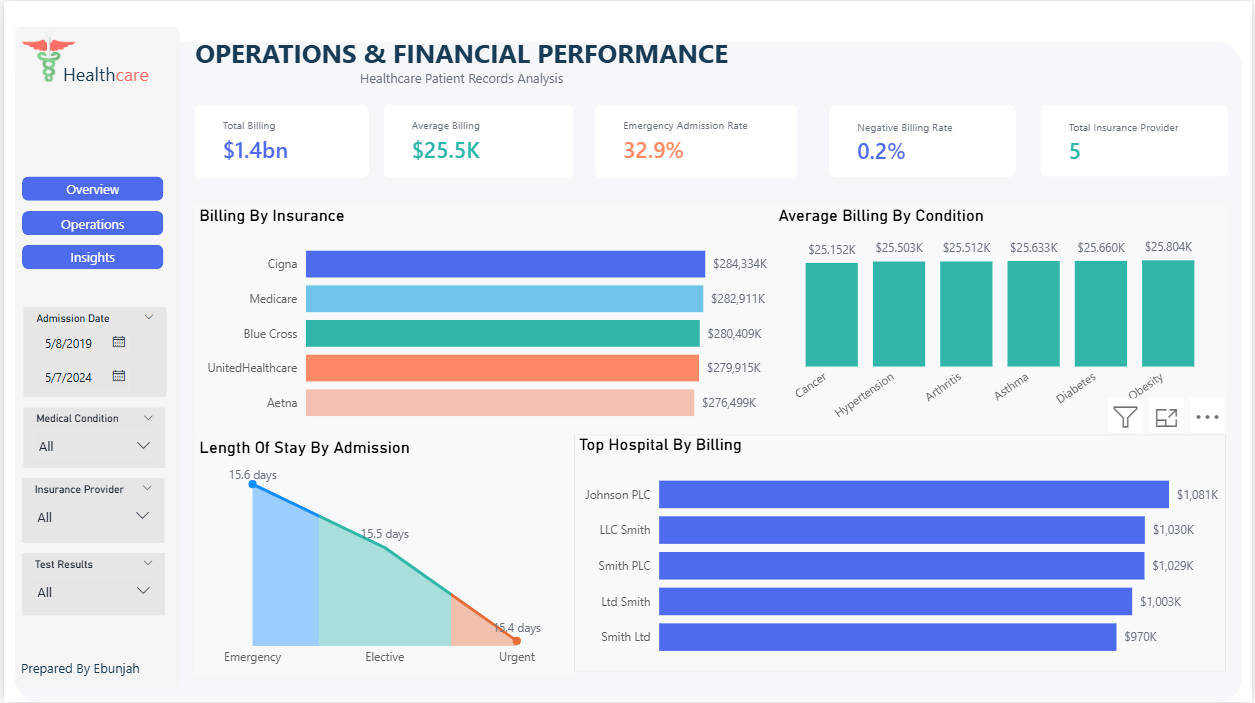

The page's visual inventory and layout, read from the dashboard file:
{"tool":"powerbi","page":{"name":"Operations","canvas":[1280,720],"ordinal":1},"visuals":[{"type":"shape","box":[11.5,41.5,1259.1,679],"z":0},{"type":"shape","box":[10.6,25.8,169.7,678.8],"z":1000},{"type":"image","box":[18.6,28.6,54.4,54.4],"z":2000},{"type":"textbox","box":[55.9,57.3,100.3,40.1],"z":3000},{"type":"textbox","box":[180.3,28.8,578.8,68.2],"z":4000},{"type":"shape","box":[194.8,106,179,75.9],"z":5000},{"type":"shape","box":[389.6,106,194.8,75.9],"z":6000},{"type":"shape","box":[605.9,106,207.7,75.9],"z":7000},{"type":"shape","box":[846.5,106,191.9,74.5],"z":8000},{"type":"cardVisual","fields":{"Data":["Health care Dataset.Total Billing"]},"box":[194.8,106,179,74.5],"z":9000},{"type":"cardVisual","fields":{"Data":["Health care Dataset.Average Billing"]},"box":[389.6,106,164.7,75.9],"z":10000},{"type":"cardVisual","fields":{"Data":["Health care Dataset.Emergency Admission Rate"]},"box":[605.9,106,207.7,75.9],"z":11000},{"type":"cardVisual","fields":{"Data":["Health care Dataset.Negative Billing Rate"]},"box":[846.4,107.5,192.3,75.7],"z":12000},{"type":"clusteredBarChart","title":"Billing By Insurance","fields":{"Category":["Health care Dataset.Insurance Provider"],"Y":["Health care Dataset.Total Billing"]},"box":[195.5,209.1,593.9,236.4],"z":13000},{"type":"clusteredColumnChart","title":"Average Billing By Condition","fields":{"Category":["Health care Dataset.Medical Condition"],"Y":["Health care Dataset.Average Billing"]},"box":[789.2,209.1,465.5,236.3],"z":14000},{"type":"areaChart","title":"Length Of Stay By Admission","fields":{"Category":["Health care Dataset.Admission Type"],"Y":["Health care Dataset.Average Length of Stay"]},"box":[195.5,447,389.4,242.4],"z":15000},{"type":"clusteredBarChart","title":"Top Hospital By Billing","fields":{"Category":["Health care Dataset.Hospital"],"Y":["Health care Dataset.Total Billing"]},"box":[584.5,445.2,669.3,242.3],"z":16000},{"type":"pageNavigator","box":[18.5,180.7,145.9,96.3],"z":17000},{"type":"slicer","fields":{"Values":["Health care Dataset.Date of Admission"]},"box":[19.3,314.1,145.9,91.9],"z":18000},{"type":"slicer","fields":{"Values":["Health care Dataset.Medical Condition"]},"box":[19.7,416.7,145.5,62.1],"z":19000},{"type":"slicer","fields":{"Values":["Health care Dataset.Test Results"]},"box":[18.5,565.9,146.7,63.7],"z":20000},{"type":"slicer","fields":{"Values":["Health care Dataset.Insurance Provider"]},"box":[18.5,488.9,145.9,66.7],"z":21000},{"type":"textbox","box":[12.1,669.7,143.9,34.8],"z":22000},{"type":"shape","box":[1063,106,192.3,74.2],"z":23000},{"type":"cardVisual","fields":{"Data":["Health care Dataset.Total Insurance Provider"]},"box":[1063,107.5,192.3,75.7],"z":24000}]}

Visuals, with their boxes in screenshot pixels (x1, y1, x2, y2), scaled from the page's 1280x720 canvas onto the 1255x703 screenshot:
shape: box(11, 41, 1246, 702)
shape: box(10, 25, 177, 688)
image: box(18, 28, 72, 81)
textbox: box(55, 56, 153, 95)
textbox: box(177, 28, 744, 95)
shape: box(191, 103, 366, 178)
shape: box(382, 103, 573, 178)
shape: box(594, 103, 798, 178)
shape: box(830, 103, 1018, 176)
cardVisual - Health care Dataset.Total Billing: box(191, 103, 366, 176)
cardVisual - Health care Dataset.Average Billing: box(382, 103, 543, 178)
cardVisual - Health care Dataset.Emergency Admission Rate: box(594, 103, 798, 178)
cardVisual - Health care Dataset.Negative Billing Rate: box(830, 105, 1018, 179)
"Billing By Insurance" clusteredBarChart: box(192, 204, 774, 435)
"Average Billing By Condition" clusteredColumnChart: box(774, 204, 1230, 435)
"Length Of Stay By Admission" areaChart: box(192, 436, 573, 673)
"Top Hospital By Billing" clusteredBarChart: box(573, 435, 1229, 671)
pageNavigator: box(18, 176, 161, 270)
slicer - Health care Dataset.Date of Admission: box(19, 307, 162, 396)
slicer - Health care Dataset.Medical Condition: box(19, 407, 162, 467)
slicer - Health care Dataset.Test Results: box(18, 553, 162, 615)
slicer - Health care Dataset.Insurance Provider: box(18, 477, 161, 542)
textbox: box(12, 654, 153, 688)
shape: box(1042, 103, 1231, 176)
cardVisual - Health care Dataset.Total Insurance Provider: box(1042, 105, 1231, 179)
